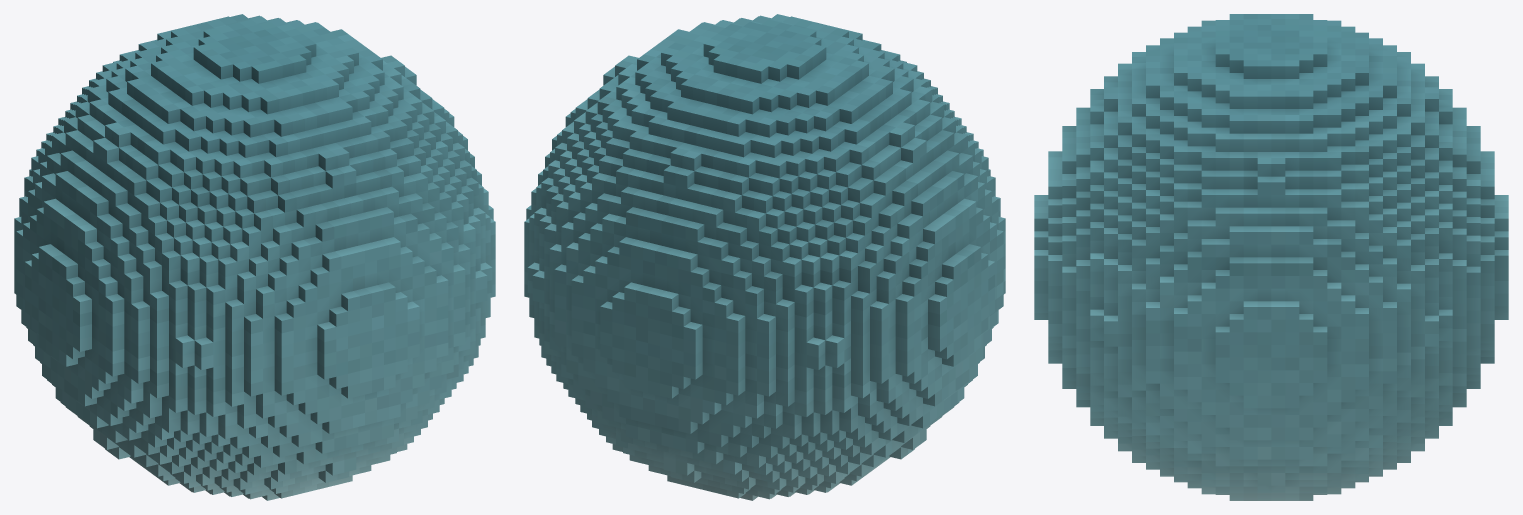
The model's file is uranus_lod1.glb.
The picture shows the model from 3 angles, left to right: view 1: azimuth 30°, elevation 25°; view 2: azimuth 150°, elevation 25°; view 3: azimuth 270°, elevation 25°; orthographic projection.
Visible parts, largest first — view 1: uranus_lod1; view 2: uranus_lod1; view 3: uranus_lod1.
Boxes of the visible parts, x1,y1,x2,y2 form: uranus_lod1: [14, 14, 495, 500]; uranus_lod1: [524, 14, 1005, 500]; uranus_lod1: [1034, 14, 1508, 500].
Size of the model in its own units: 2 by 2 by 2.
